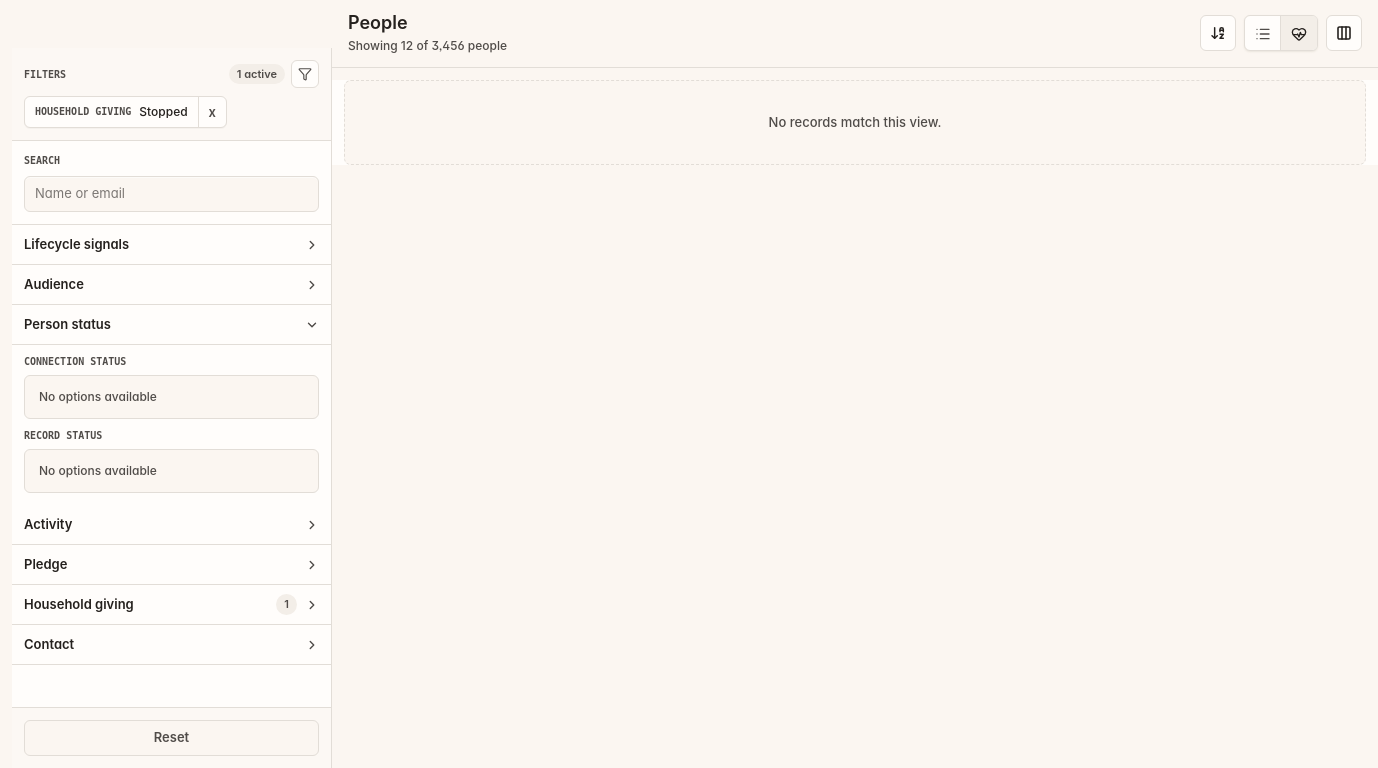
ListViewShell › renders the household giving filter from the giving lifecycle report
Expected: the text "Household giving" next to "Stopped" is shown, [35,106,131,117]
Expected: the text "Stopped" is shown, [139,106,188,118]
Click the button "Household giving 1". click: (79, 604)
box: [12,585,331,625]
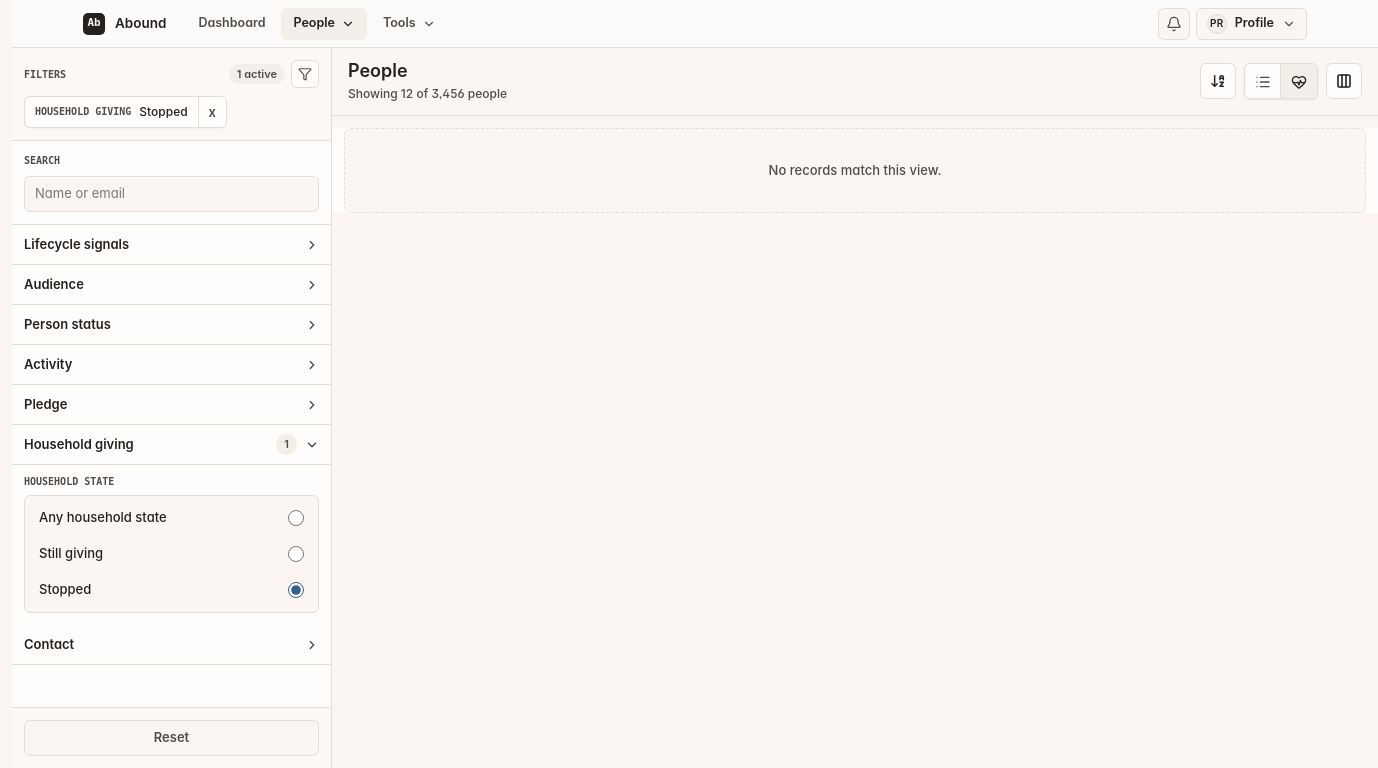
Now the radio button labelled "Stopped" is checked, box [288,582,304,598]
Now the radio button labelled "Still giving" is not checked, box [288,546,304,562]
